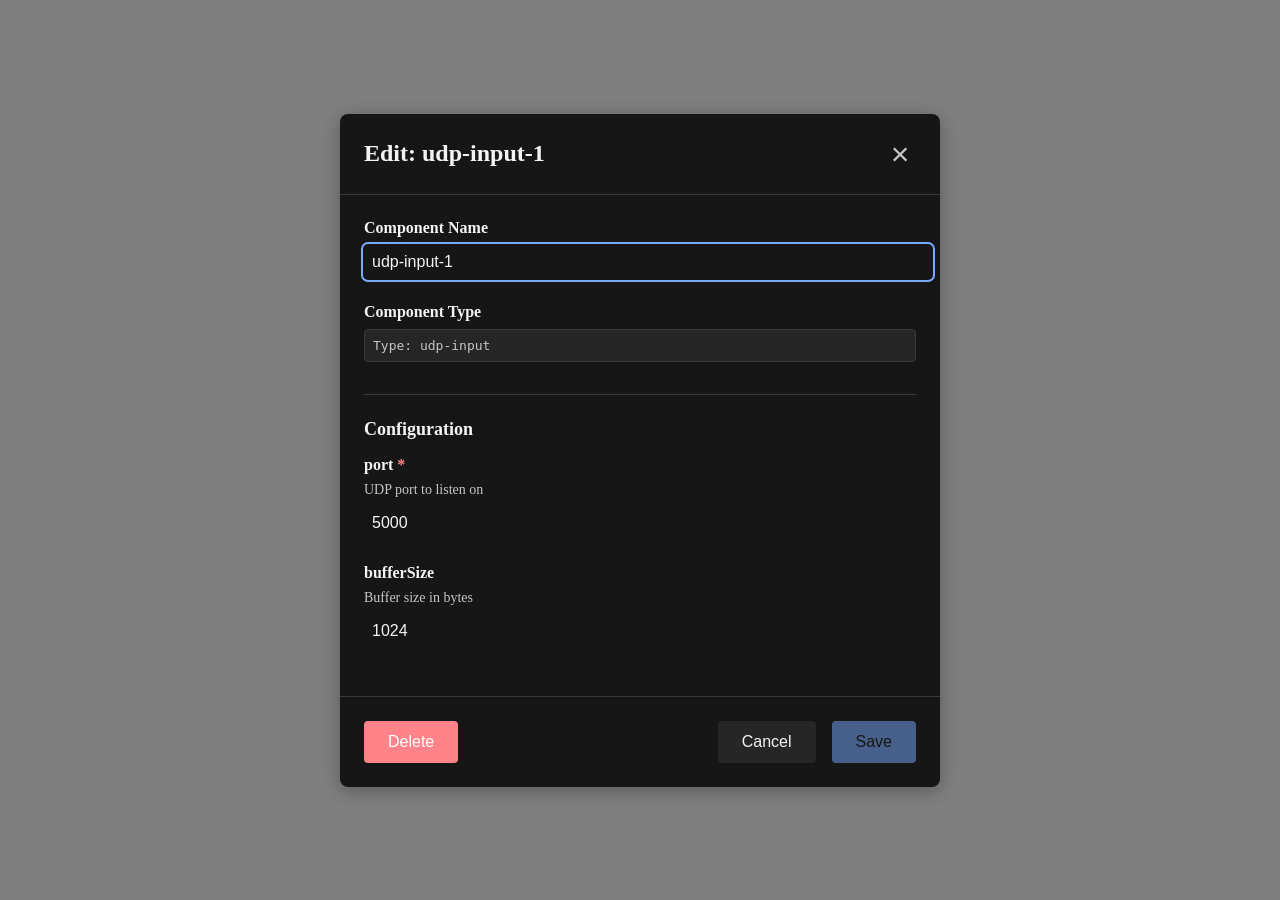
EditComponentModal › Form Fields › should show validation errors for invalid config values
Enter invalid value (below minimum)
Replace the text in the number field named "config.port" with "500" at (648, 522), box [364, 506, 932, 540]
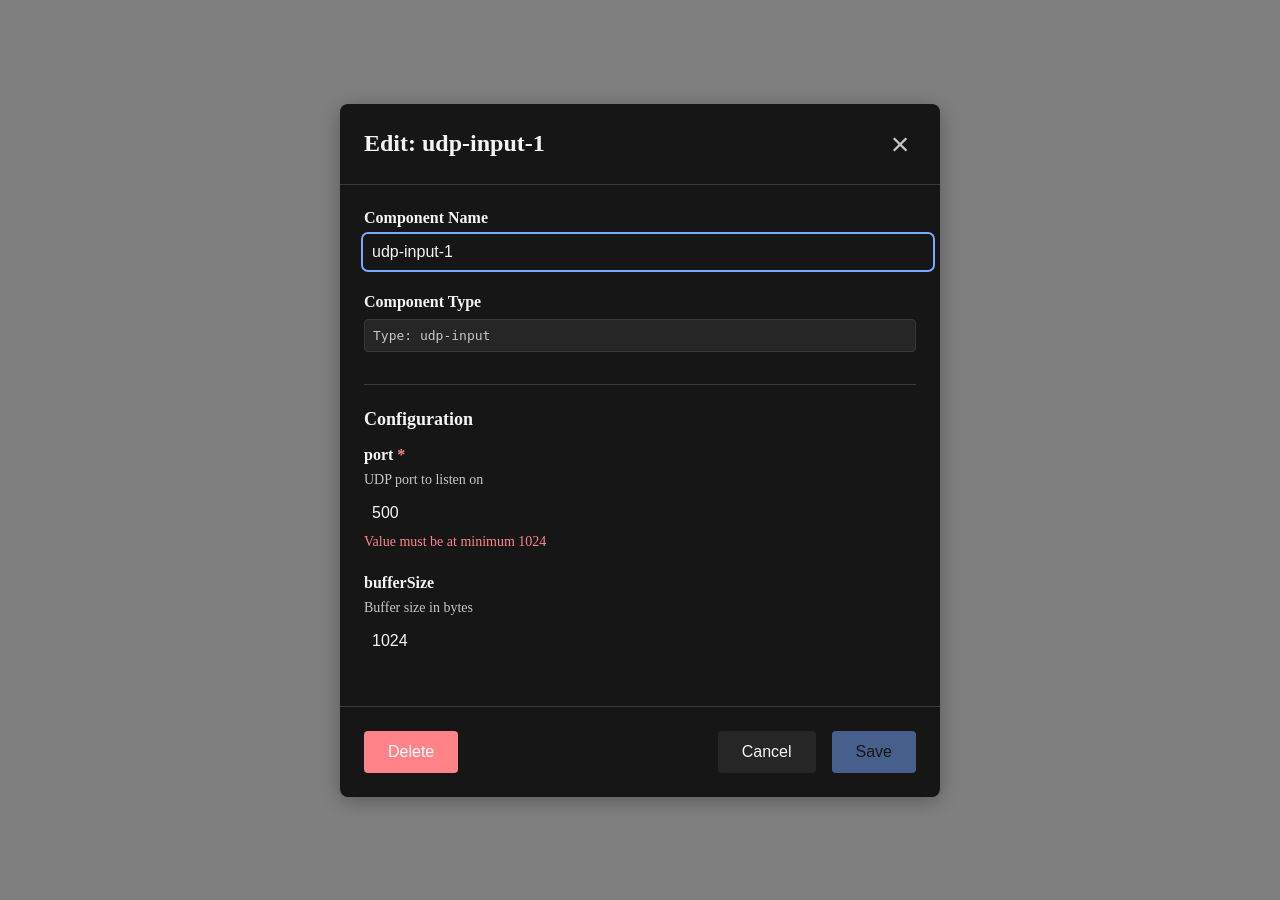
expect the text "Value must be at minimum 1024" is shown: met, box [364, 534, 546, 548]
